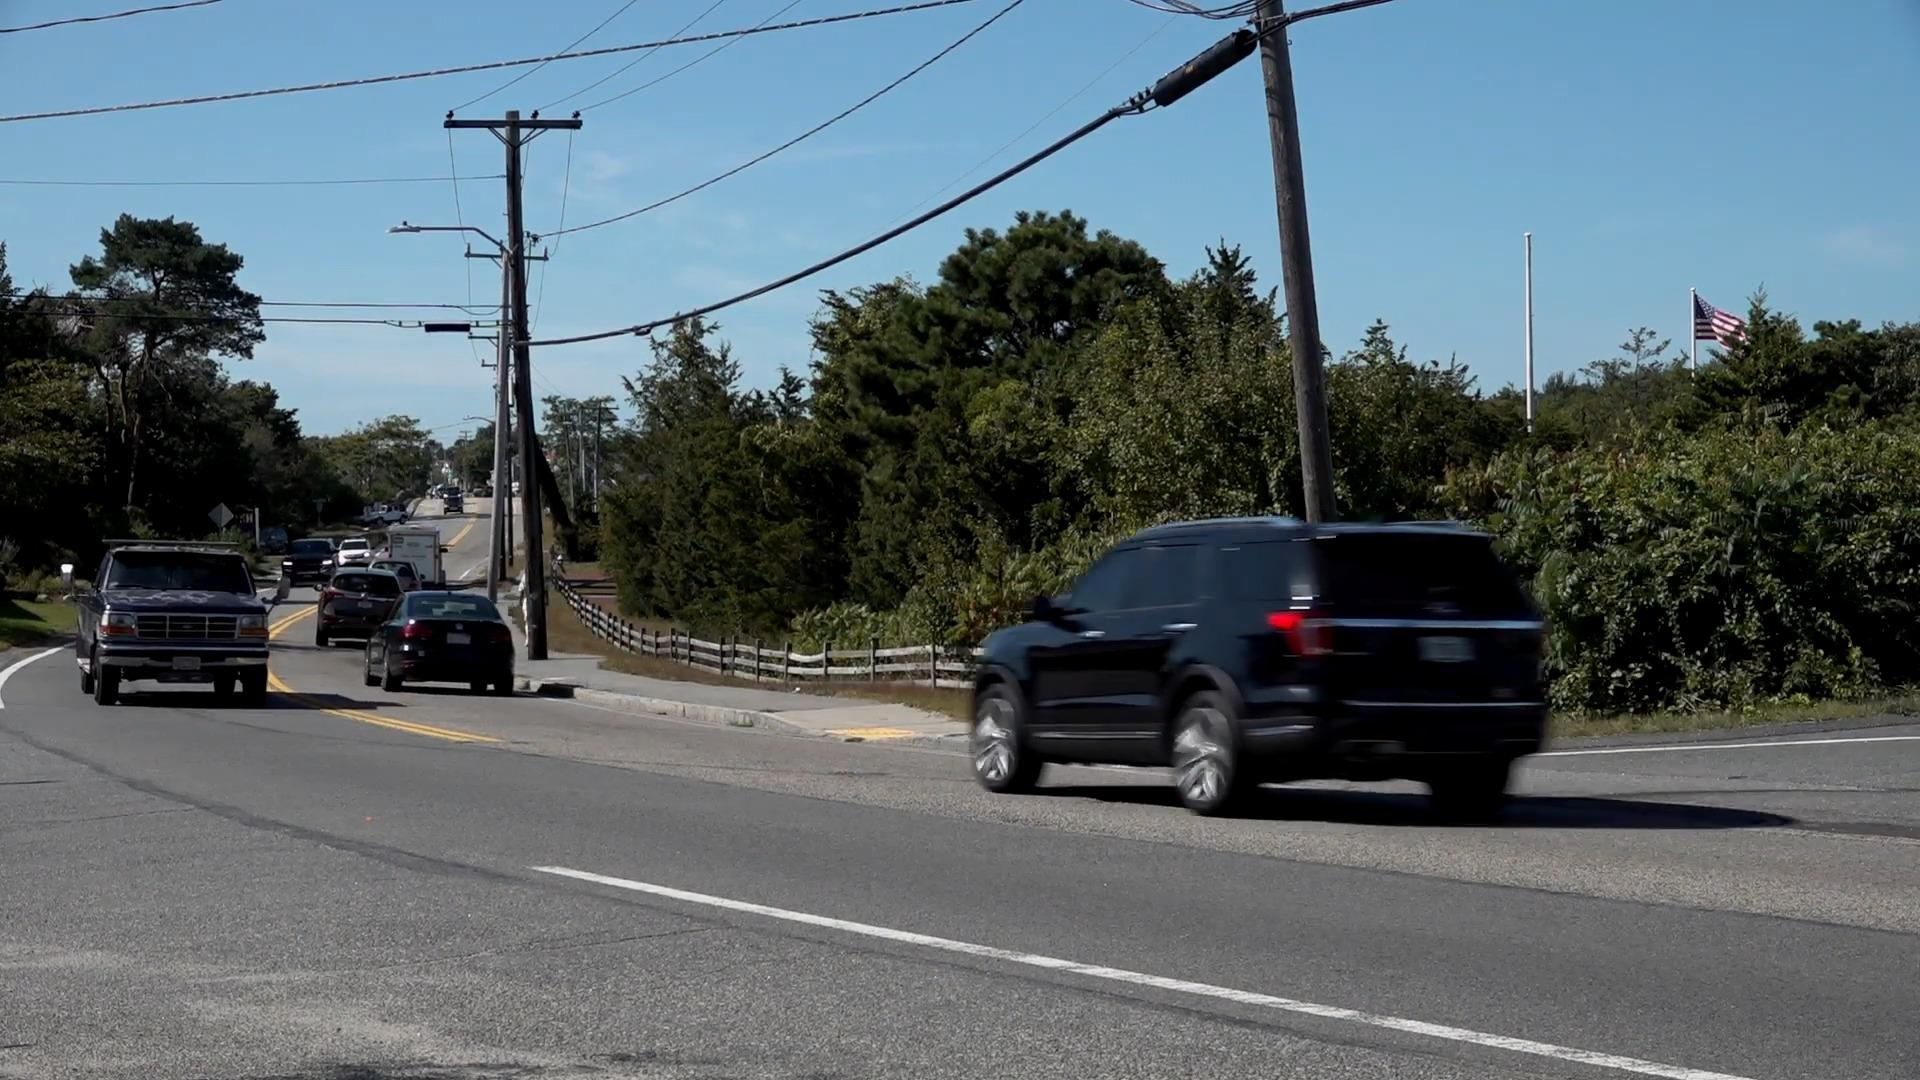pickup: (62, 530, 273, 702)
sedans: (364, 593, 516, 690)
suv: (961, 516, 1556, 812)
